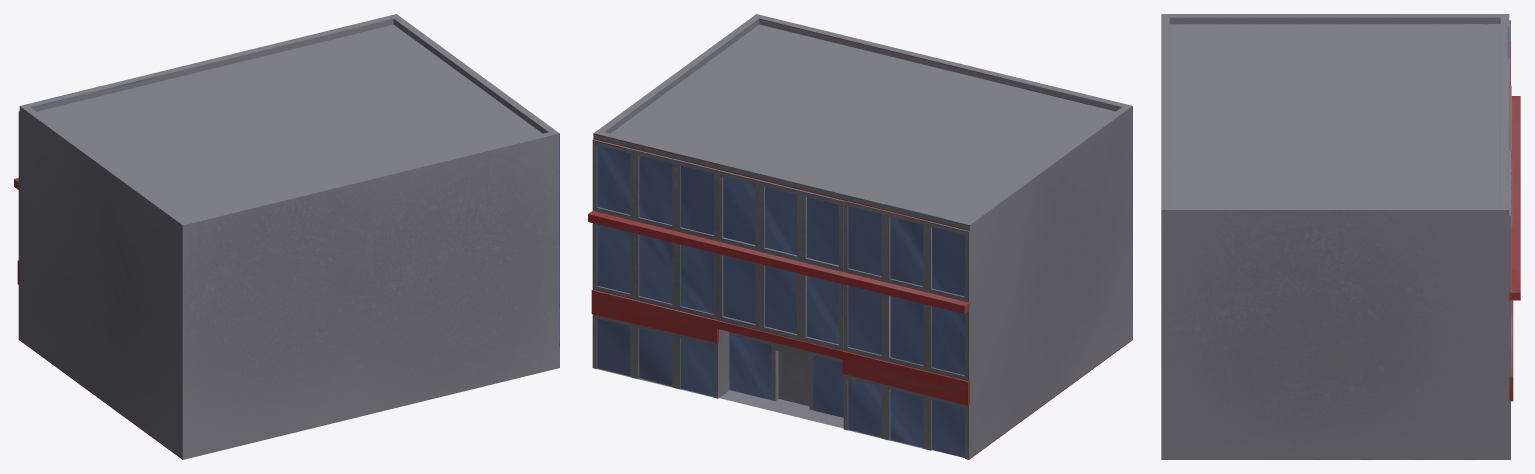
File: Building02.fbx
The picture shows the model from 3 angles, left to right: view 1: azimuth 30°, elevation 25°; view 2: azimuth 150°, elevation 25°; view 3: azimuth 270°, elevation 25°; orthographic projection. The views are drawn at different scales.
Parts seen in each view (by area): view 1: Building02; view 2: Building02; view 3: Building02.
Boxes of the visible parts, bbox=[...] form: Building02: bbox=[14, 14, 559, 459]; Building02: bbox=[588, 14, 1132, 459]; Building02: bbox=[1161, 14, 1520, 459].
Size of the model in its own units: 2000 by 1189 by 1550.
